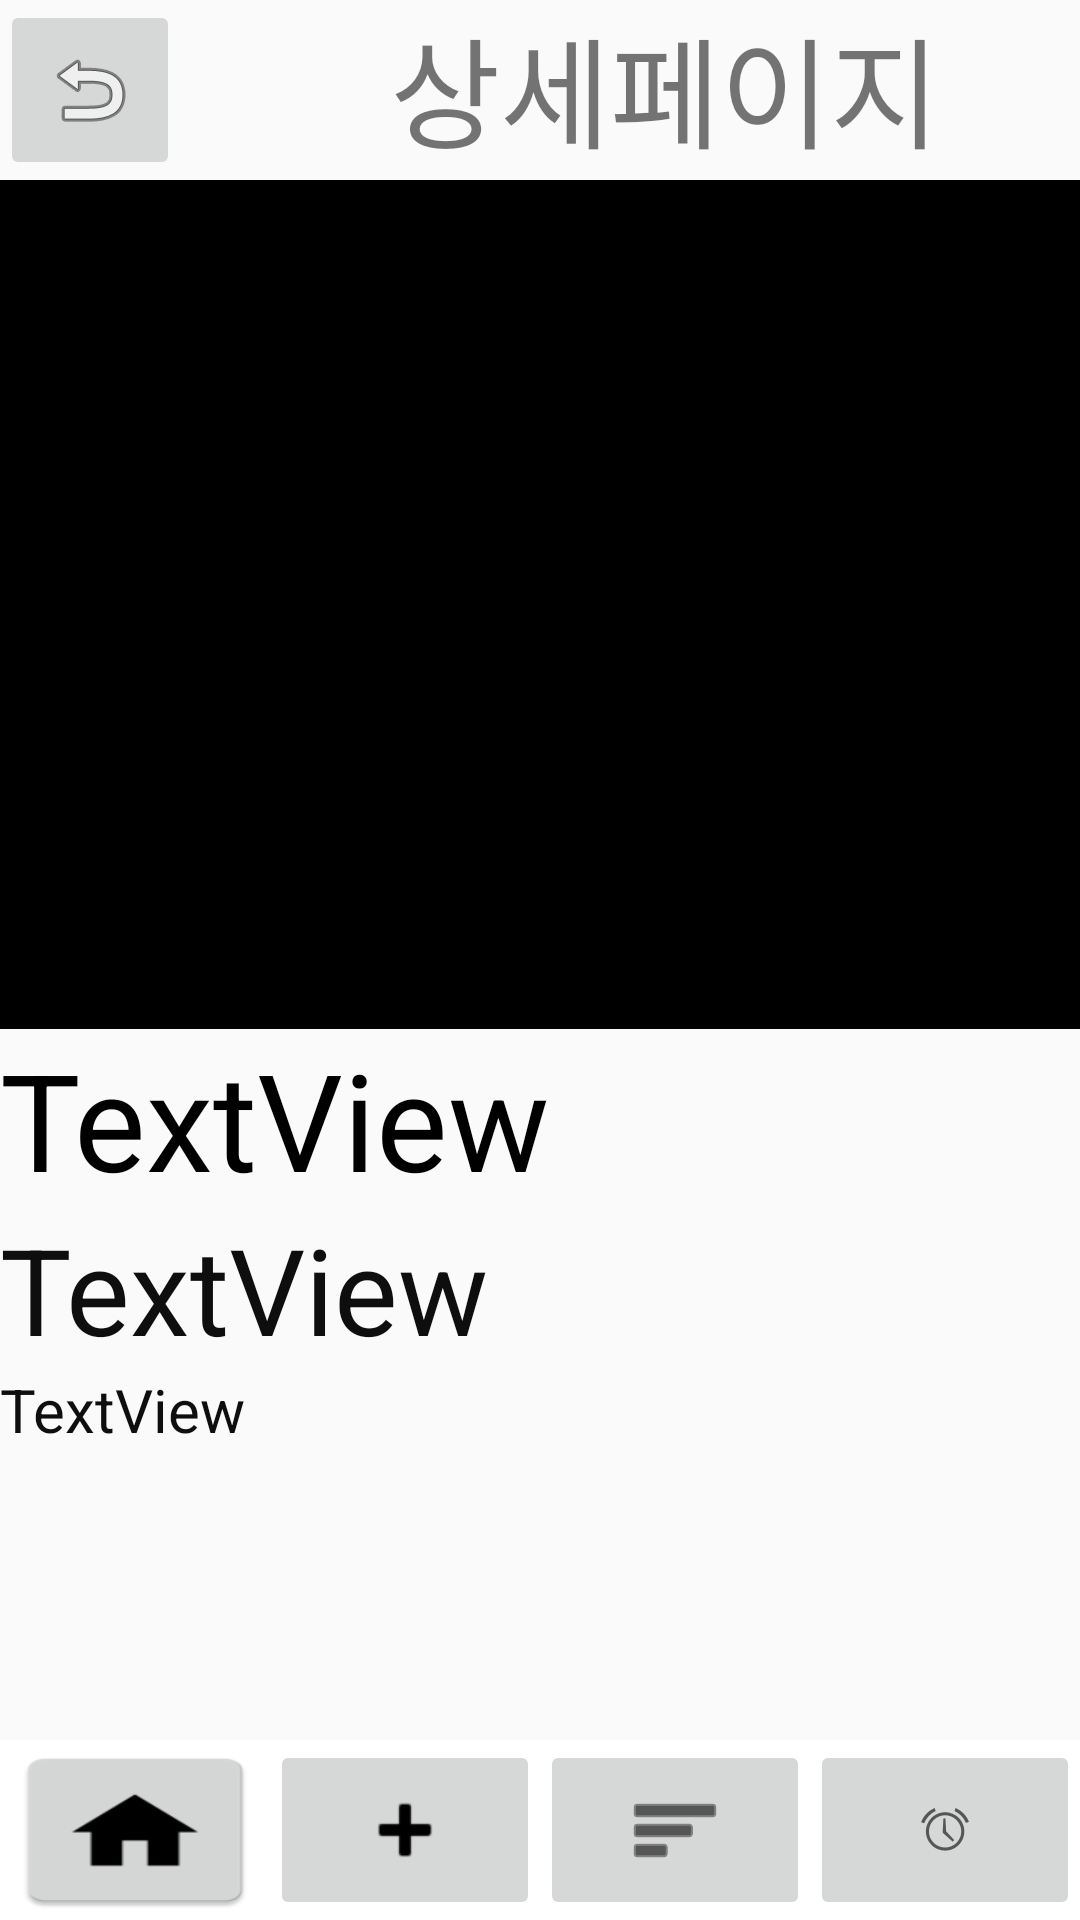

Point at icon controls on the screen. Image size 1080px x 1920px, points as (x,y).
add: (405,1830)
revert: (90,90)
sort by size: (675,1830)
